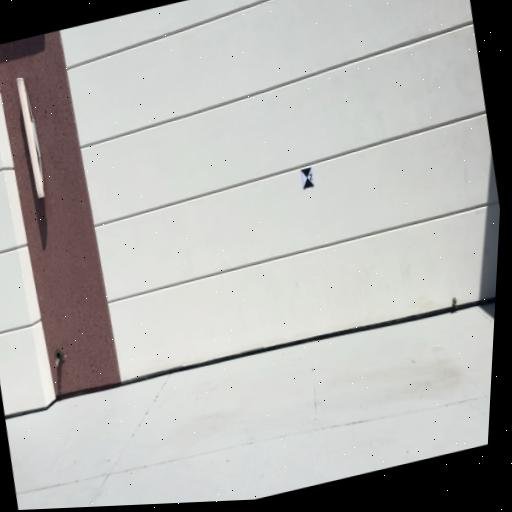target7: (299, 166, 317, 190)
